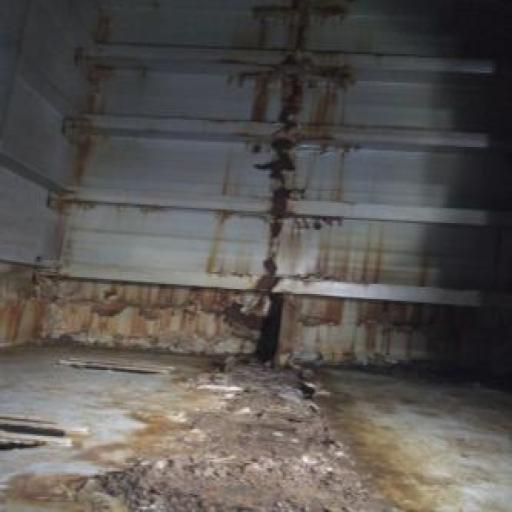Detect-rust-on-metal-surfaces: (0, 1, 510, 510), (1, 1, 197, 354)
